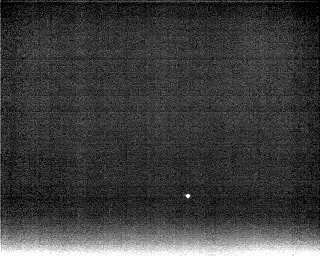BIRD: (183, 191, 192, 201)
